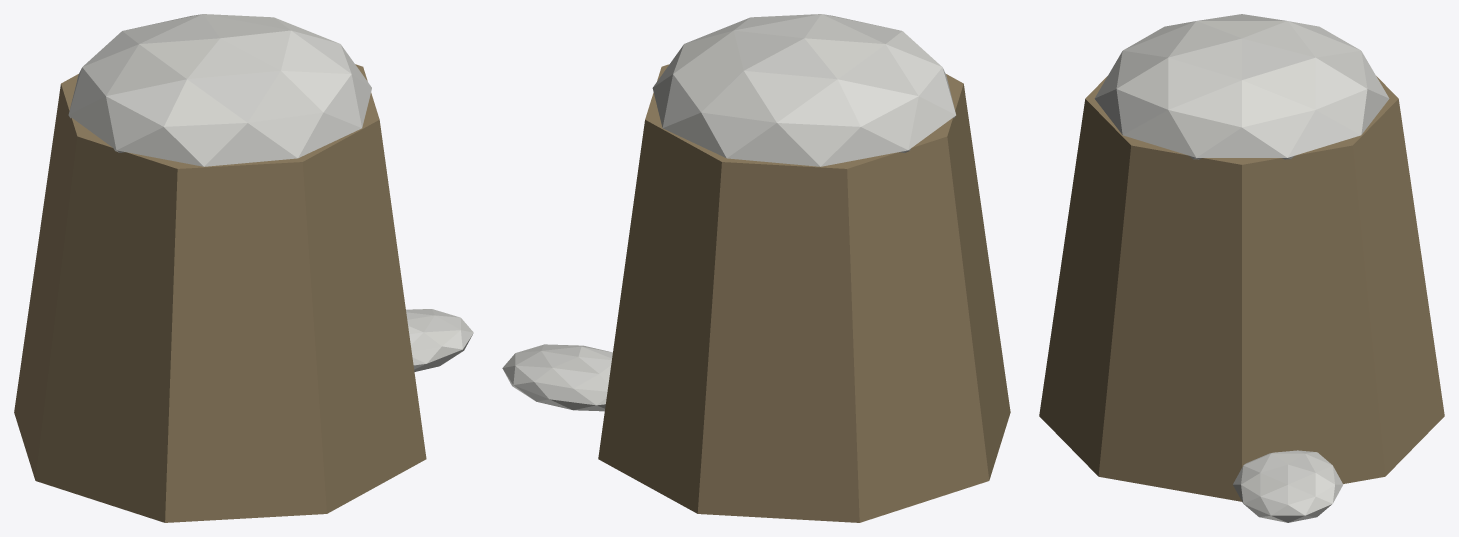
The model's file is village_salt_sack.glb.
3 views of the same model, side by side, from view 1: azimuth 30°, elevation 25°; view 2: azimuth 150°, elevation 25°; view 3: azimuth 270°, elevation 25° (orthographic). The views are drawn at different scales.
Visible parts, largest first — view 1: village_salt_sack; view 2: village_salt_sack; view 3: village_salt_sack.
Boxes of the visible parts, x1,y1,x2,y2 form: village_salt_sack: (14, 14, 473, 522); village_salt_sack: (502, 14, 1010, 522); village_salt_sack: (1039, 14, 1444, 522).
Bounding box in the file's own units: 0.5399 × 0.452 × 0.44.
